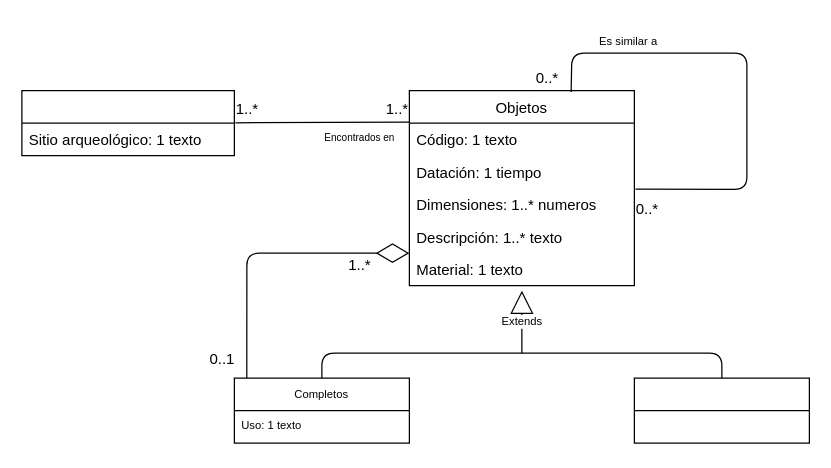
Image size: 831x468. Some labels were removed from this diagram. The box of each missing label's shape, as (x1, y1, x2, y2) in pixels:
Excavaciones arqueológicas: (21, 89, 234, 156)
Fragmentados: (633, 377, 809, 443)
